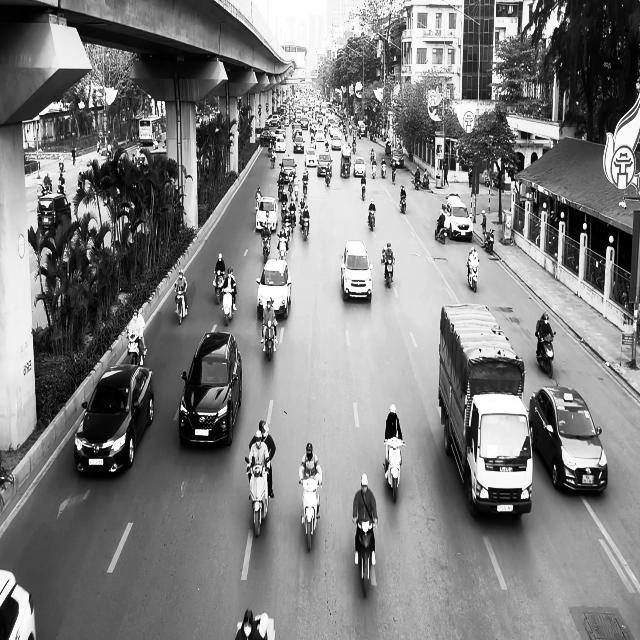bus: (138, 114, 162, 146)
car: (74, 363, 154, 474), (529, 384, 608, 493), (179, 330, 242, 446), (0, 568, 37, 639), (256, 258, 292, 320), (341, 240, 374, 302), (256, 196, 278, 232), (354, 156, 366, 176)
motorbike: (246, 457, 271, 537), (354, 519, 378, 597), (300, 478, 322, 552), (384, 438, 406, 502), (536, 330, 556, 378), (127, 332, 146, 367), (263, 318, 276, 361), (222, 287, 236, 326), (175, 286, 187, 324), (383, 251, 395, 288), (467, 259, 480, 292), (435, 218, 447, 244), (484, 228, 495, 254), (367, 209, 375, 231), (399, 193, 406, 213), (392, 166, 396, 184)
truck: (438, 303, 533, 518)
